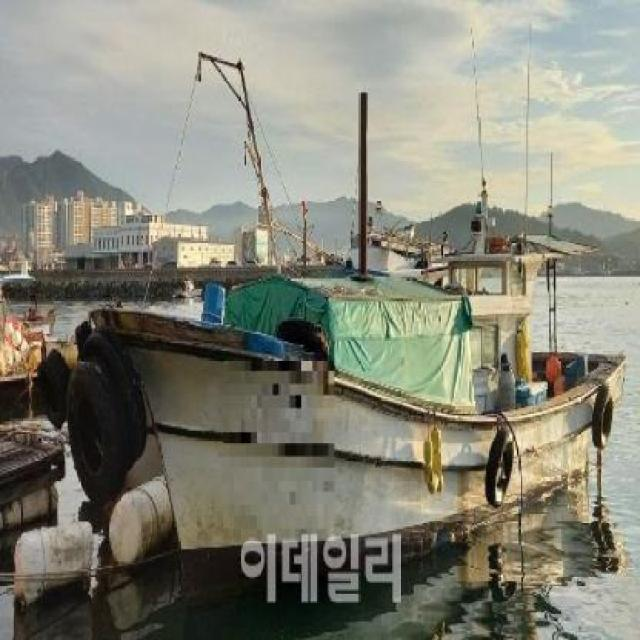fish-b: (94, 16, 628, 610)
